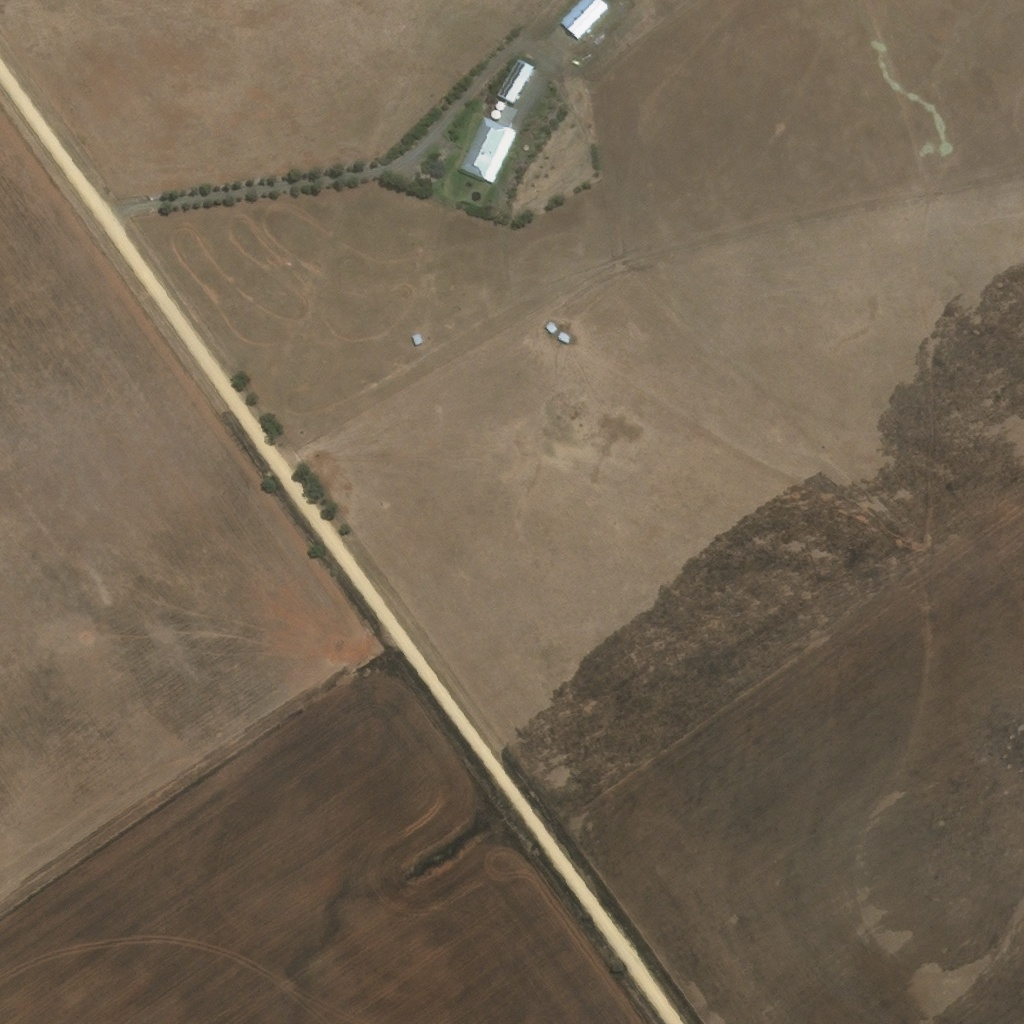0 no-damage: (457, 116, 515, 186), (496, 60, 532, 105), (489, 103, 503, 121), (543, 321, 557, 335), (557, 332, 570, 345), (411, 333, 422, 346)
